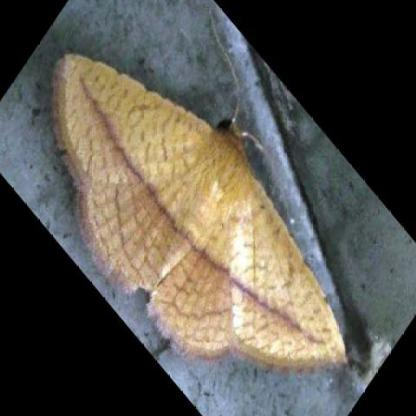Leaf Webber: (47, 49, 349, 366)
